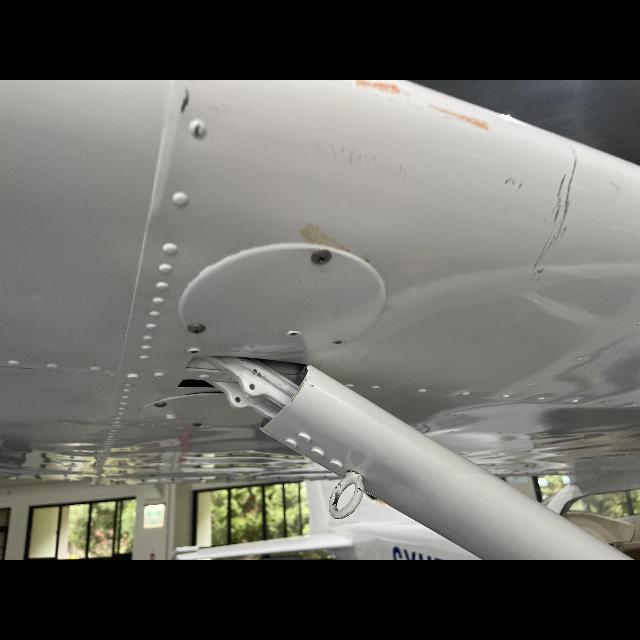Missing Fastener: (328, 337, 348, 349)
